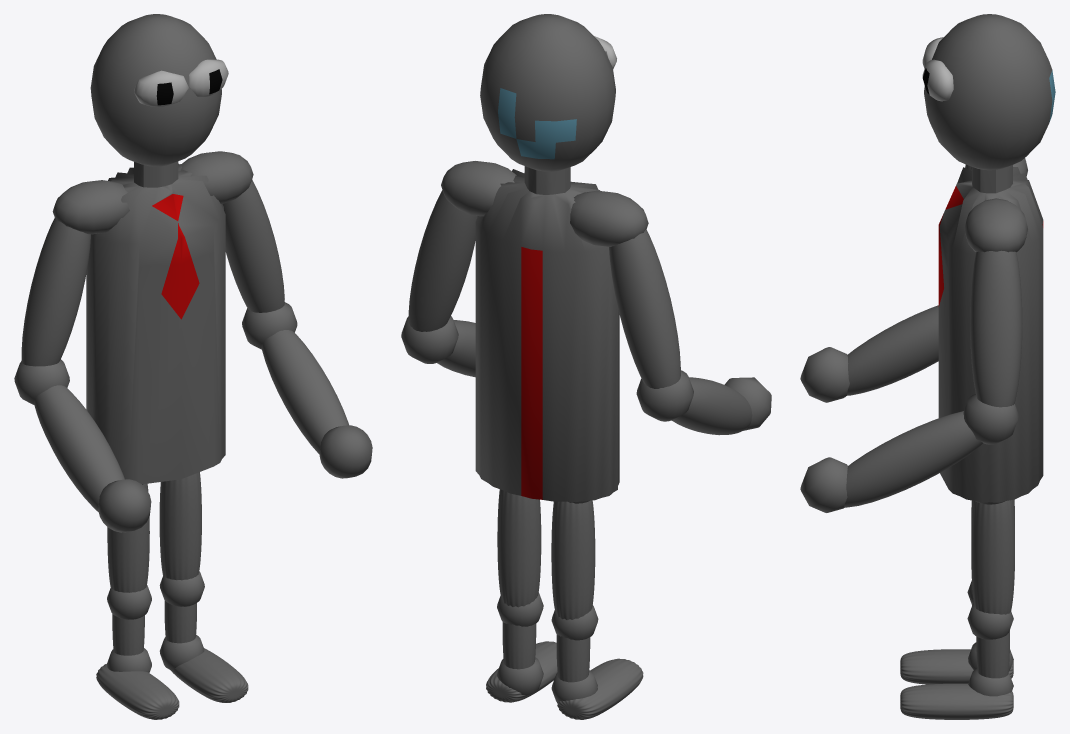
The model's file is ceo-boss.fbx.
3 views of the same model, side by side, from view 1: azimuth 30°, elevation 25°; view 2: azimuth 150°, elevation 25°; view 3: azimuth 270°, elevation 25° (orthographic). The views are drawn at different scales.
Parts seen in each view (by area): view 1: pCylinder7; view 2: pCylinder7; view 3: pCylinder7.
Part boxes in pixels (x1,y1,x2,y2): pCylinder7: (14,14,372,719); pCylinder7: (401,14,771,719); pCylinder7: (800,14,1055,719).
Bounding box in the file's own units: 3.32 × 7.65 × 2.6.
